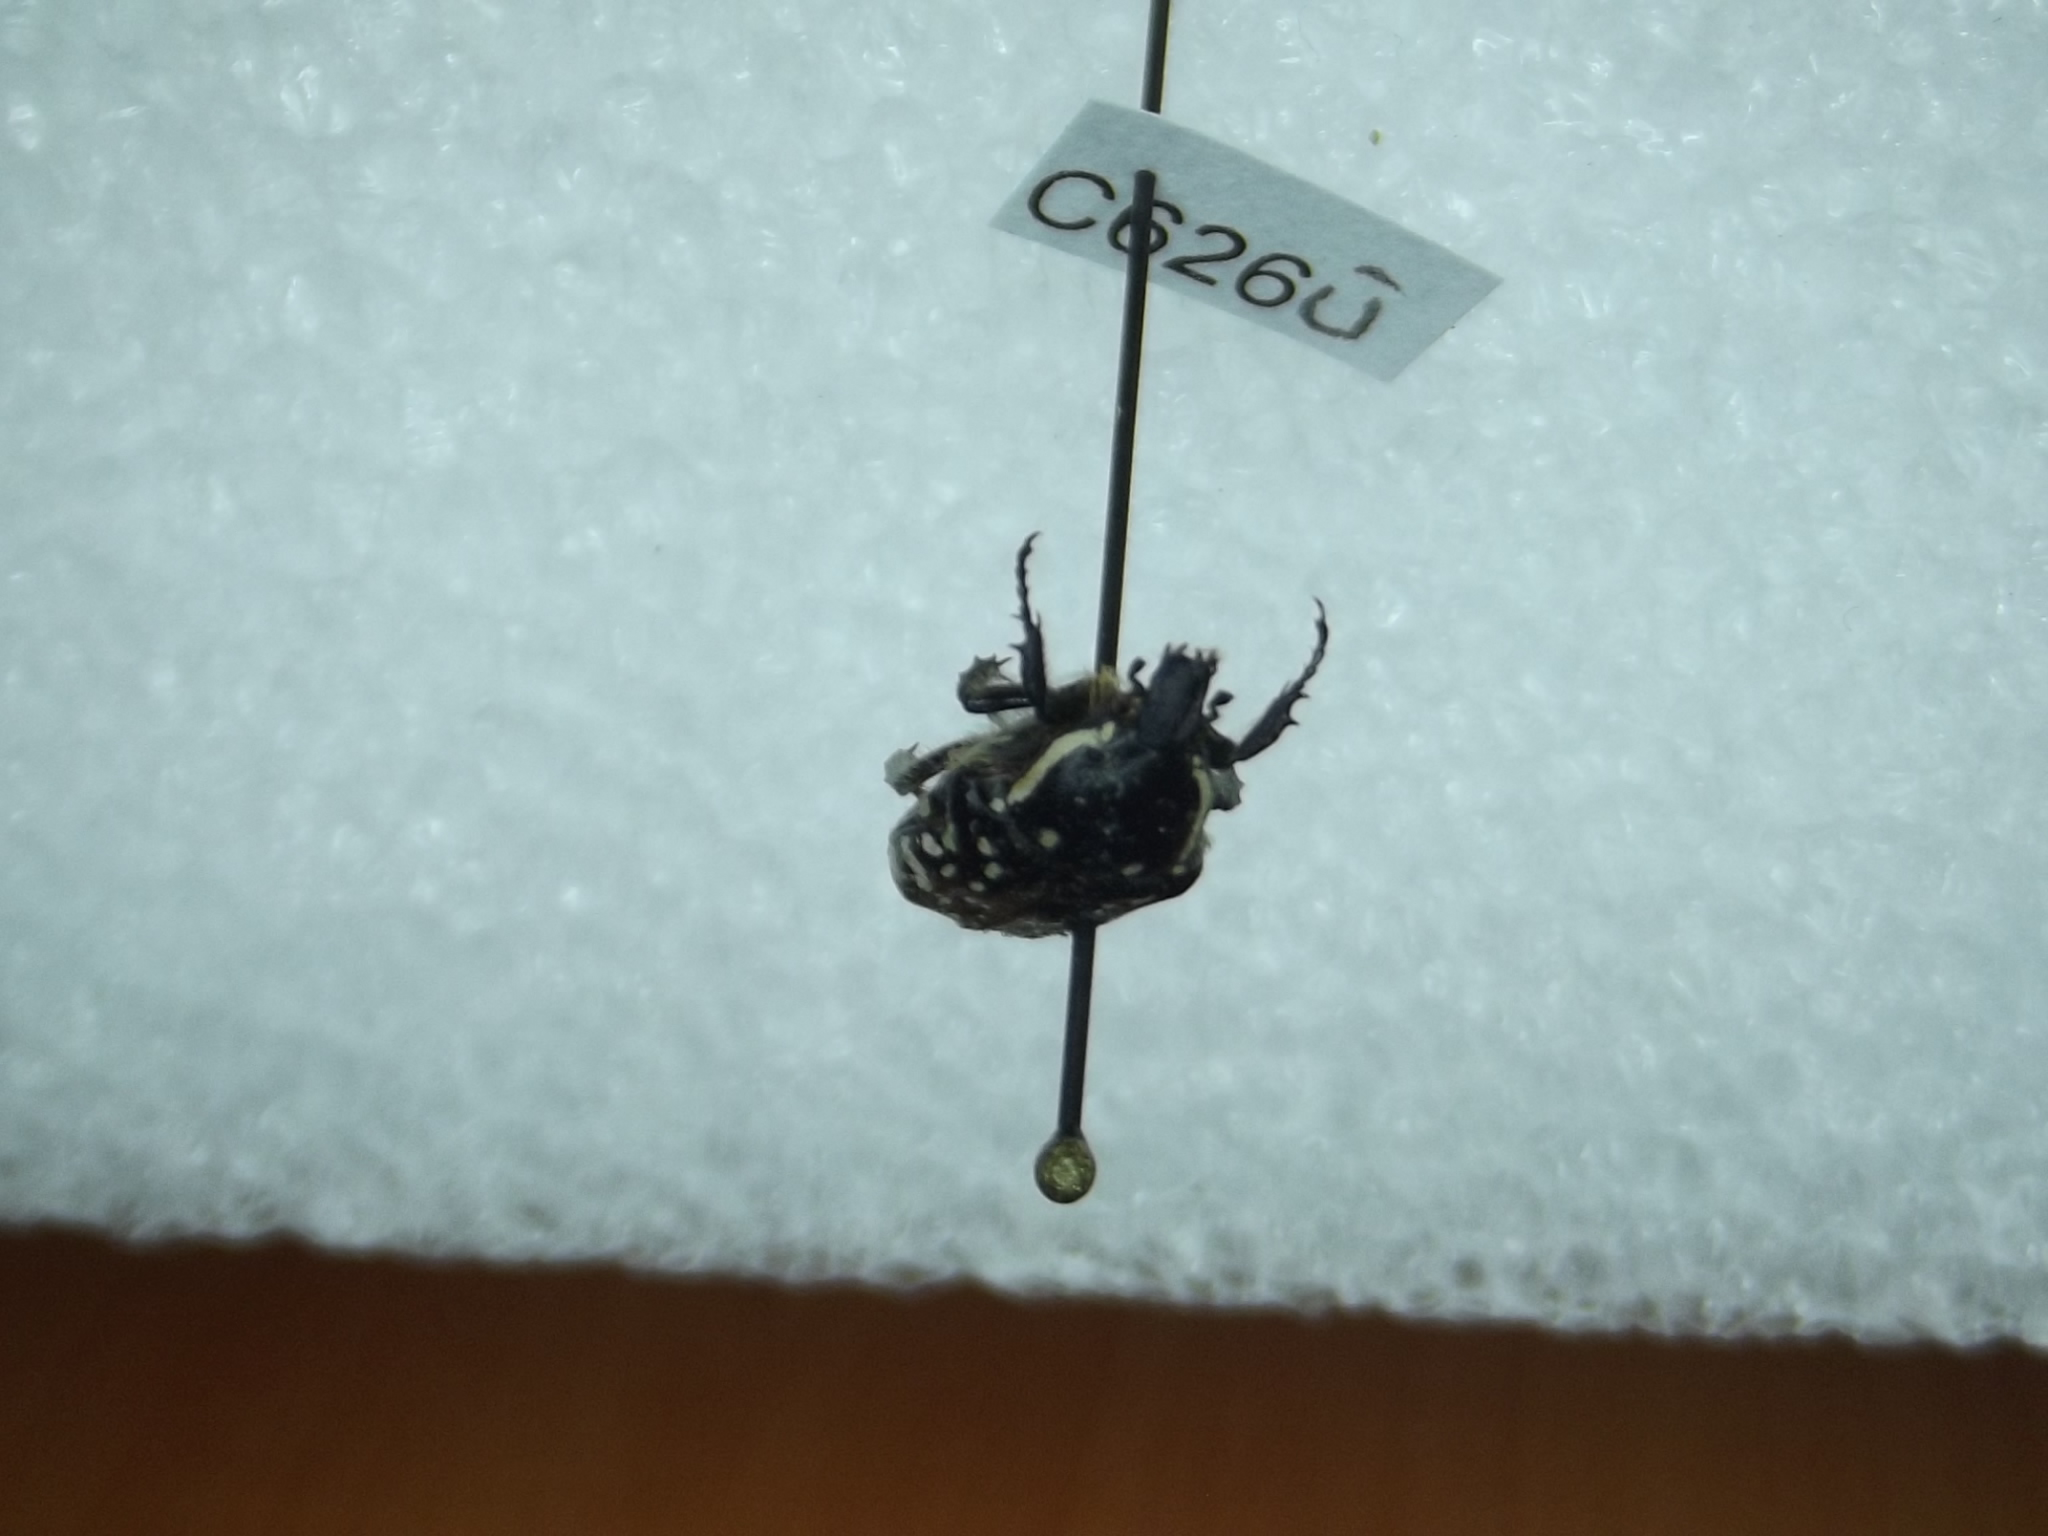Oxythyrea_funesta: (850, 503, 1353, 963)
